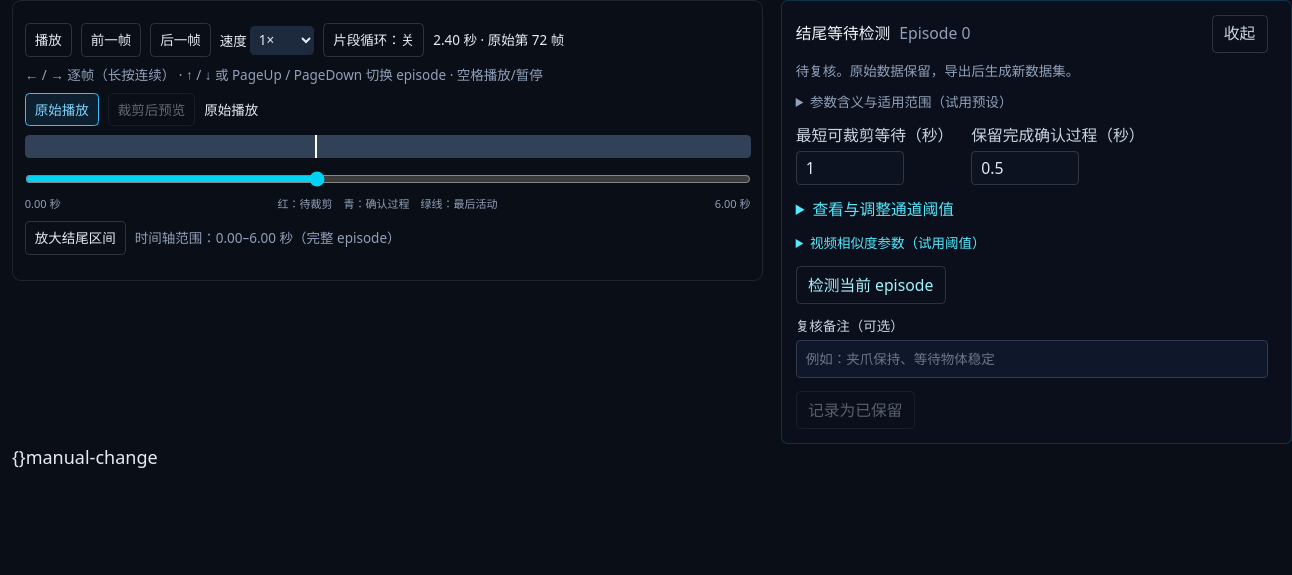
tail review › visual failure does not expose a confirmable candidate
The image size is (1292, 575).
Click the button "检测当前 episode" at (871, 285), box [796,266,946,304]
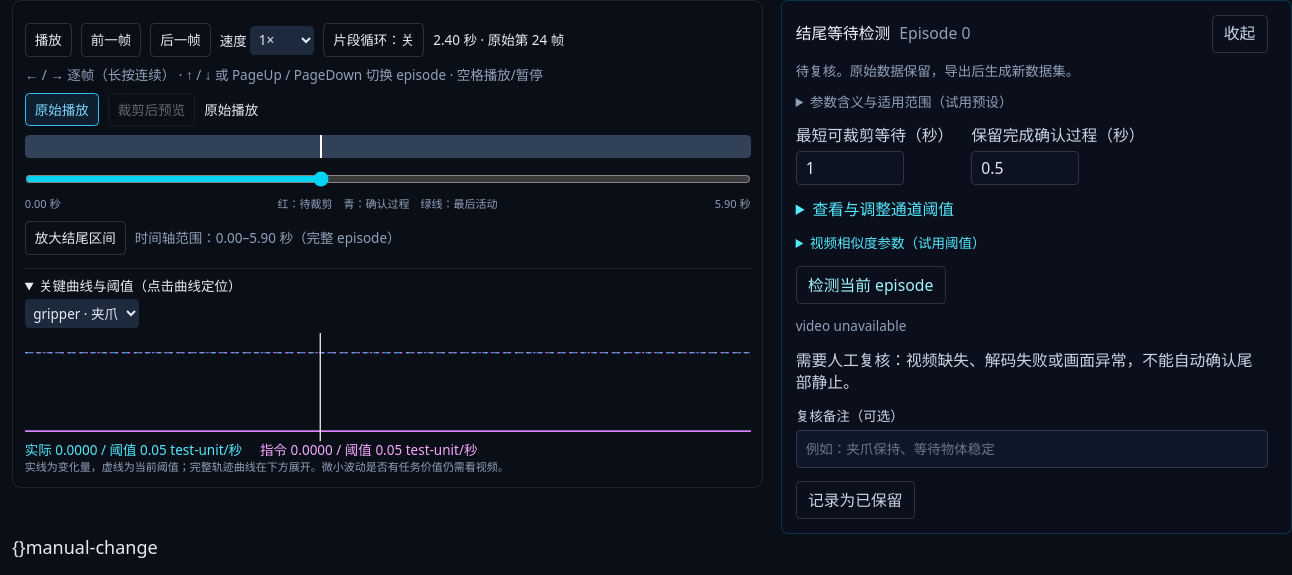
expect the text "需要人工复核：视频缺失、解码失败或画面异常，不能自动确认尾部静止。" is shown: met, box [796,349,1268,394]
